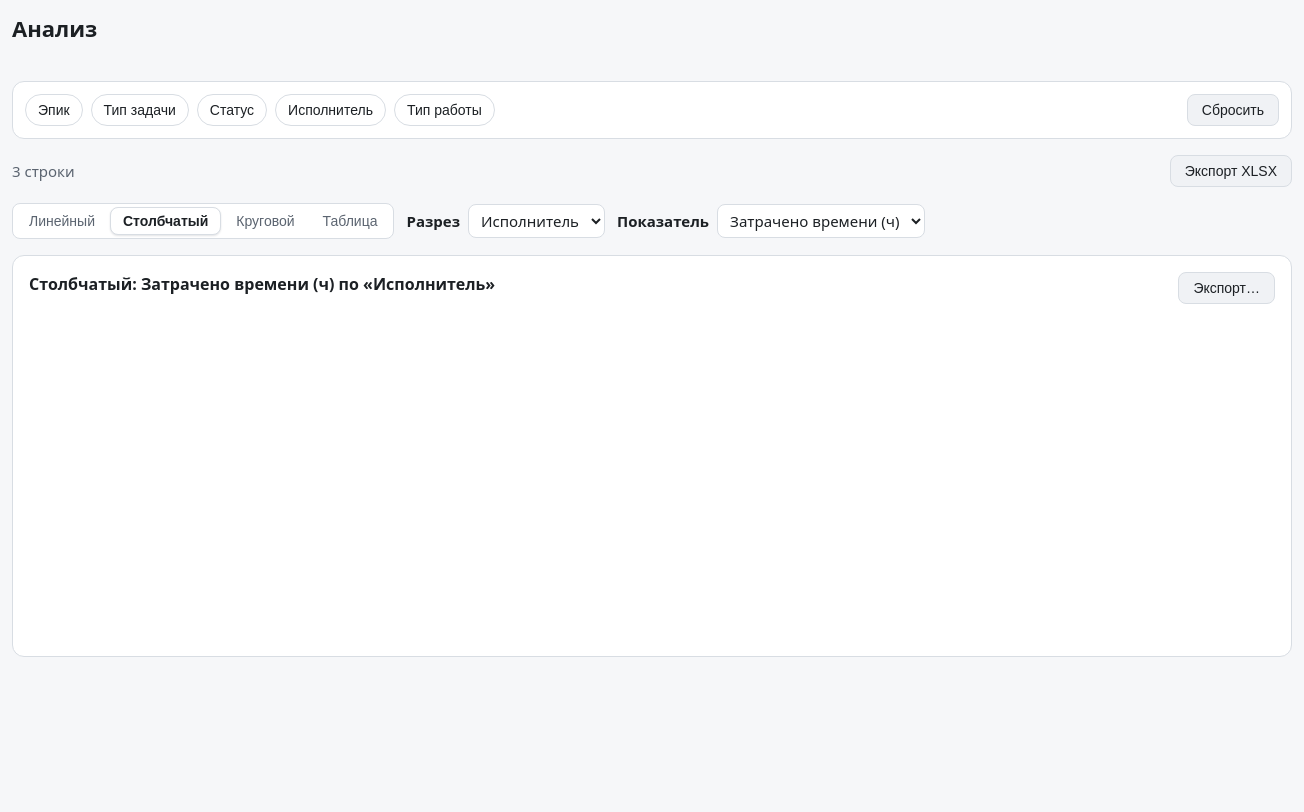
AnalysisScreen export (CAP-7) › CHART_NOT_READY: PNG/PDF stay disabled until the chart instance is ready
Step 1. Click the button with class "export-button" → (1227, 288), box [1178,272,1275,304]
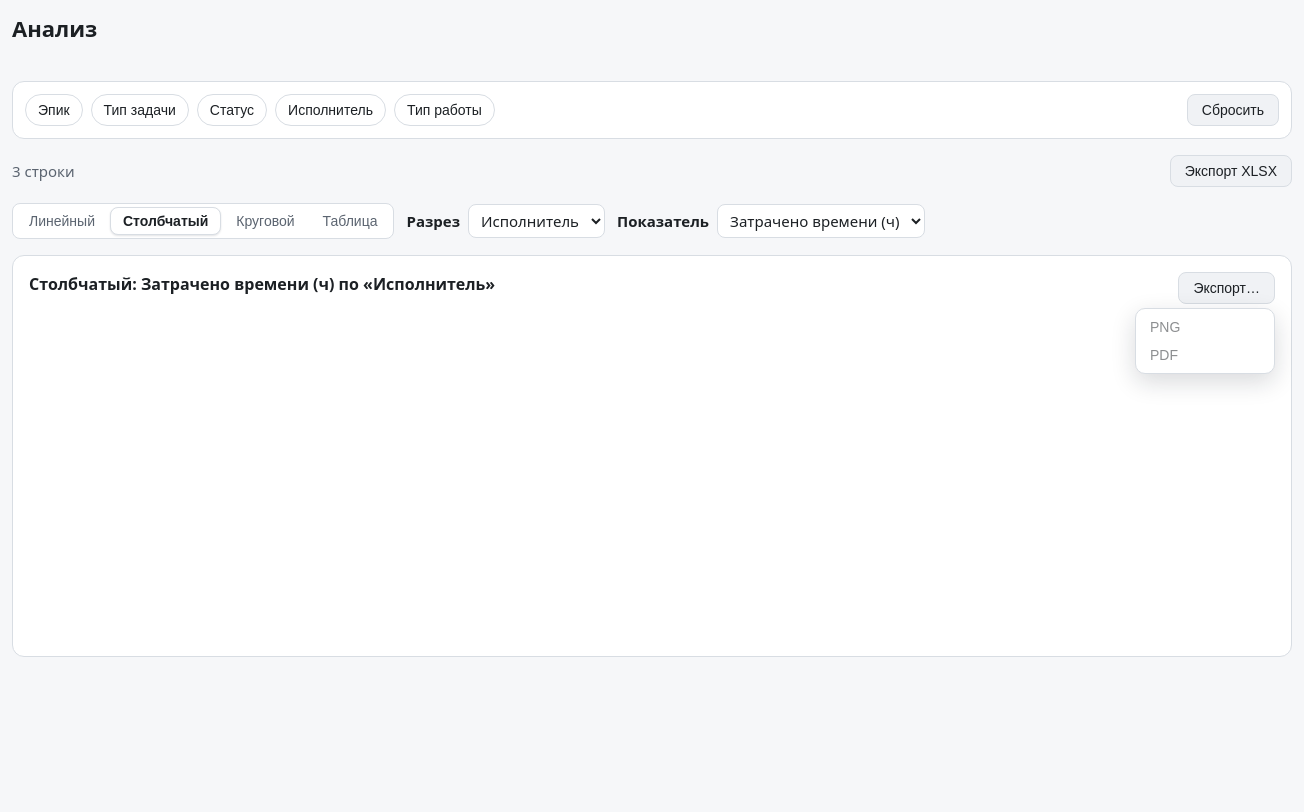
Now the button with class "export-option" showing "PNG" is disabled, box [1140,313,1270,341]
Now the button with class "export-option" showing "PDF" is disabled, box [1140,341,1270,369]
